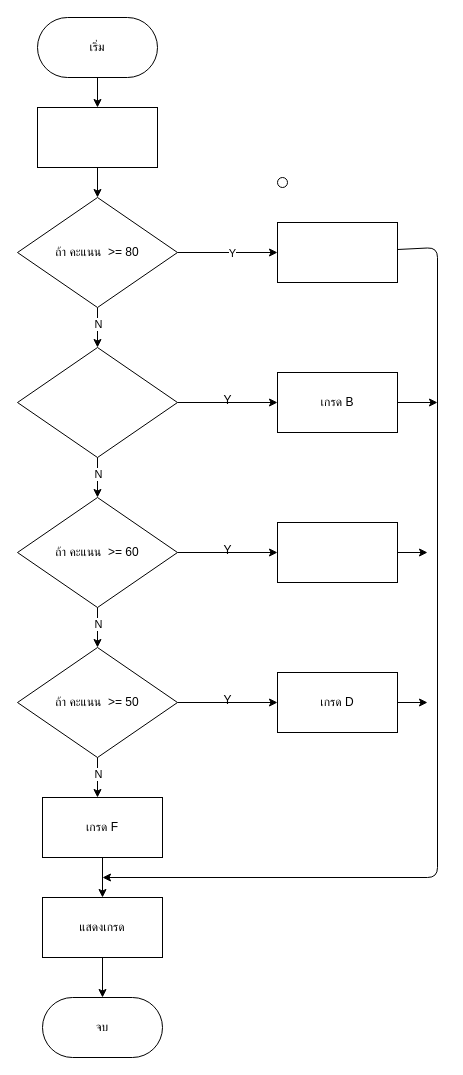
Some shapes in this 463 by 1075 pixel diagram are drawn without their labels. The shapes that lost their labels are listed below. From the top down, each one's centre as x and y in pixels, then its label:
At [97,137]: "ใส่คะแนน".
At [337,252]: "เกรด A".
At [97,402]: "ถ้า คะแนน >= 70".
At [337,552]: "เกรด C".
